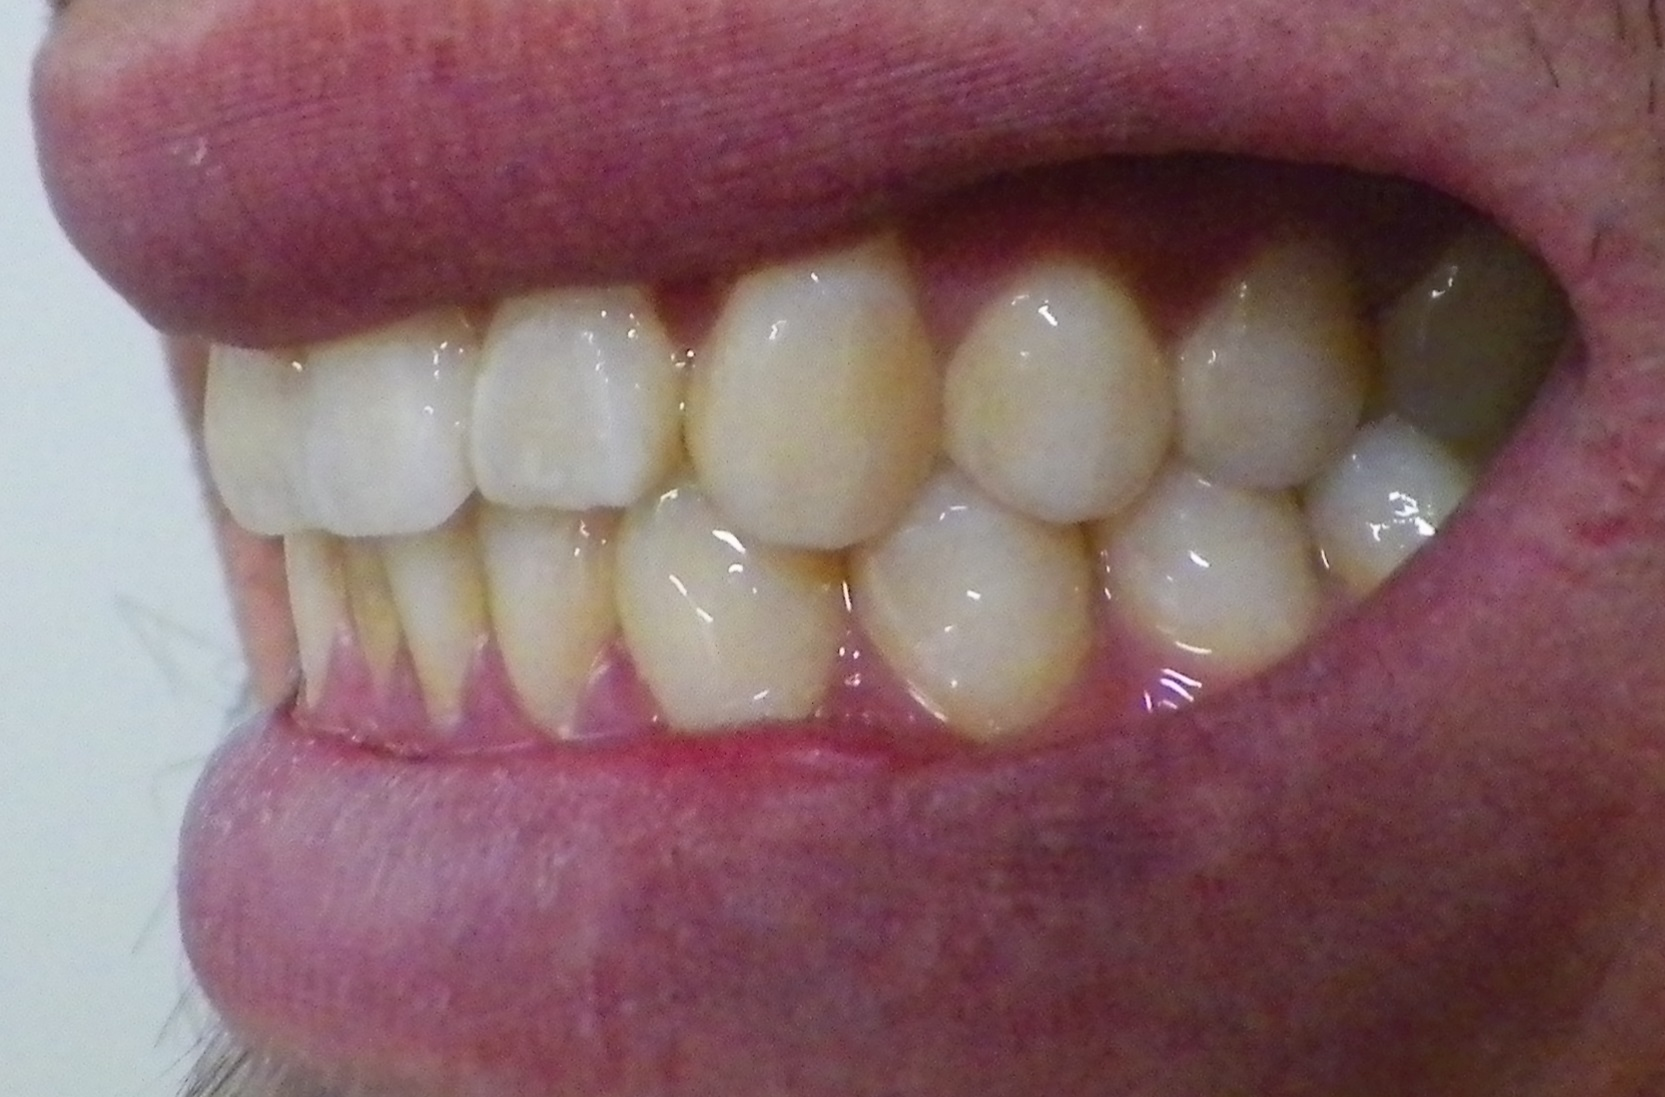boca: (202, 253, 1541, 715)
